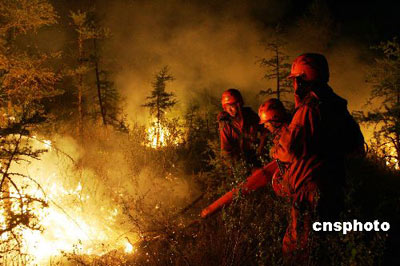fire: (5, 139, 102, 258)
smoke: (120, 7, 267, 95), (107, 128, 196, 219)
